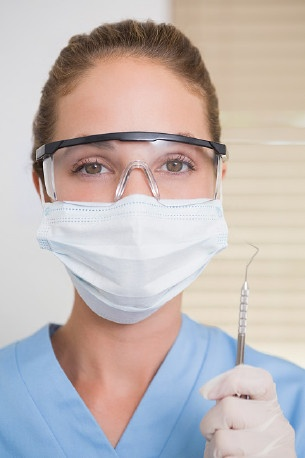Mask: (32, 113, 252, 332)
